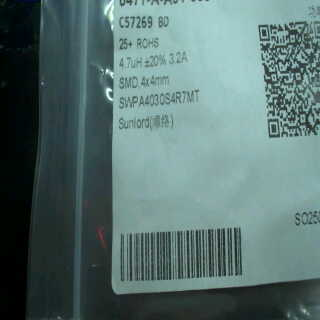4.7uH: (118, 53, 143, 73)
